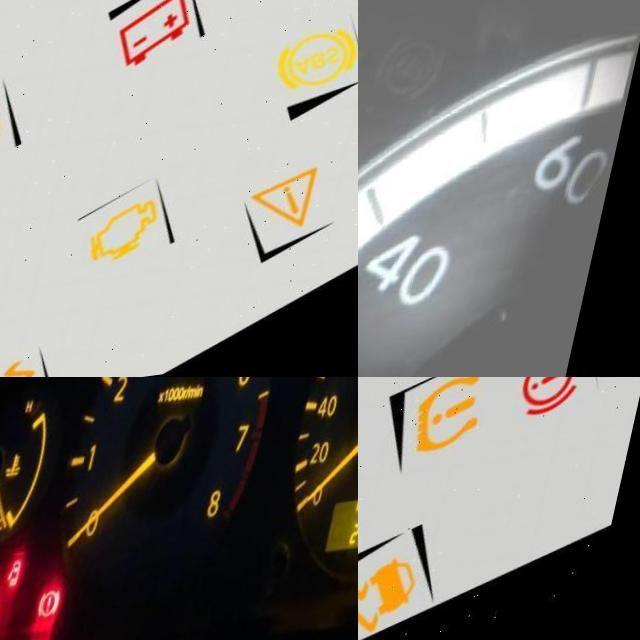Seat Belt: (3, 601, 22, 633)
